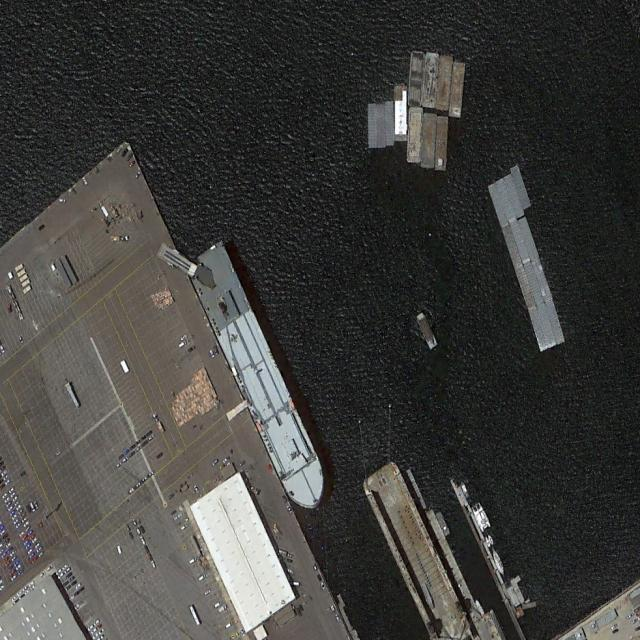Other Ship: (415, 310, 439, 351), (491, 548, 506, 577), (487, 533, 495, 546), (484, 535, 491, 548)
RoRo: (184, 237, 335, 521)
